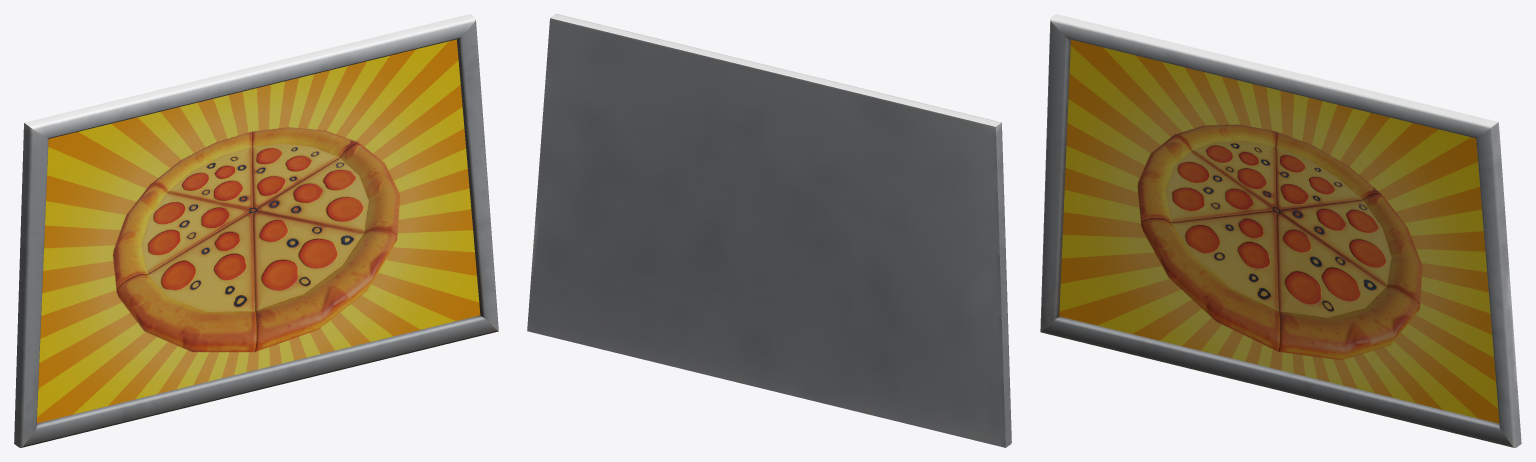
The model's file is CafePicture01_2.FBX.
The picture shows the model from 3 angles, left to right: view 1: azimuth 30°, elevation 25°; view 2: azimuth 150°, elevation 25°; view 3: azimuth 330°, elevation 25°; orthographic projection.
Visible parts, largest first — view 1: CafePicture01_2; view 2: CafePicture01_2; view 3: CafePicture01_2.
Boxes of the visible parts, x1,y1,x2,y2 form: CafePicture01_2: [14, 14, 498, 447]; CafePicture01_2: [527, 14, 1011, 447]; CafePicture01_2: [1040, 14, 1521, 447].
Size of what is drawn, in the model's own units: 1.57 by 1 by 0.04.
